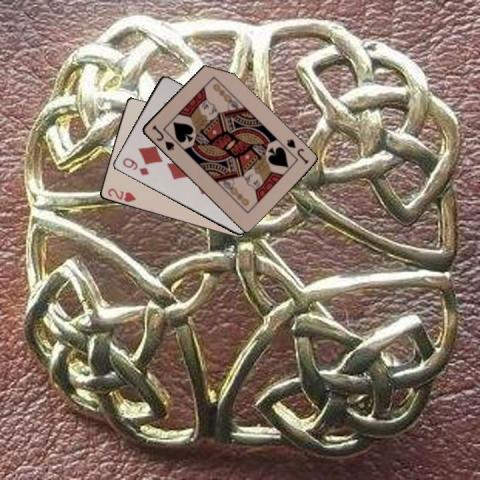2h: (104, 186, 136, 204)
9d: (119, 154, 151, 176)
Js: (283, 136, 310, 165), (149, 122, 175, 152)
